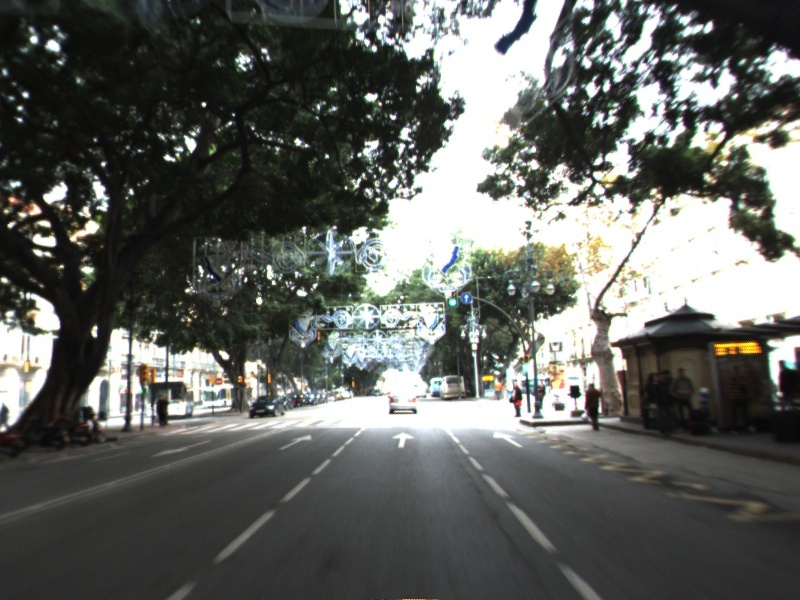STRAIGHT: (276, 433, 314, 452), (491, 429, 527, 449), (390, 430, 417, 450)
